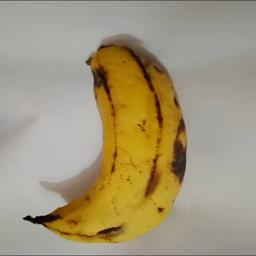Banana Semifresh: (20, 39, 191, 244)
